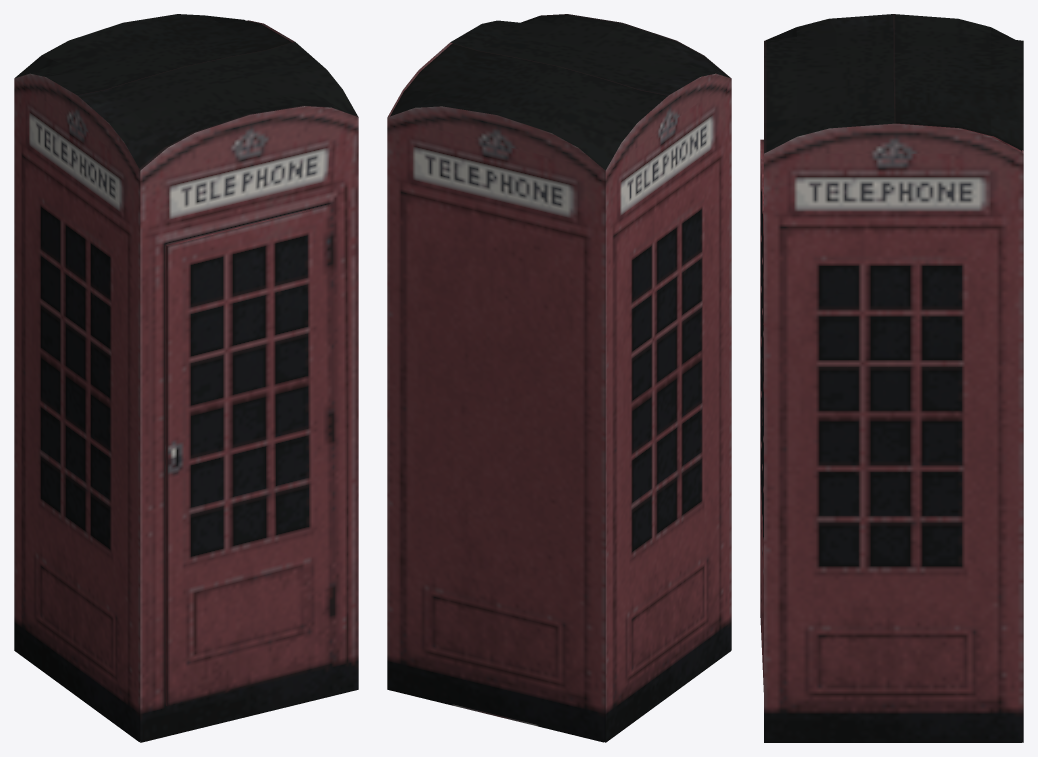
File: SM_EC_Telephonebox_0.fbx
3 renders of one model, left to right at view 1: azimuth 30°, elevation 25°; view 2: azimuth 150°, elevation 25°; view 3: azimuth 270°, elevation 25°, orthographic. The views are drawn at different scales.
Visible parts, largest first — view 1: SM_EC_Telephonebox_0, SM_EC_Telephonebox_Door_0; view 2: SM_EC_Telephonebox_0; view 3: SM_EC_Telephonebox_0, SM_EC_Telephonebox_Door_0.
Boxes of the visible parts, x1=… form: SM_EC_Telephonebox_0: x1=14, y1=14, x2=358, y2=742; SM_EC_Telephonebox_Door_0: x1=165, y1=203, x2=336, y2=706; SM_EC_Telephonebox_0: x1=387, y1=14, x2=731, y2=742; SM_EC_Telephonebox_0: x1=764, y1=14, x2=1023, y2=742; SM_EC_Telephonebox_Door_0: x1=760, y1=139, x2=763, y2=691.
Bounding box in the file's own units: 1 × 1.01 × 2.64.
